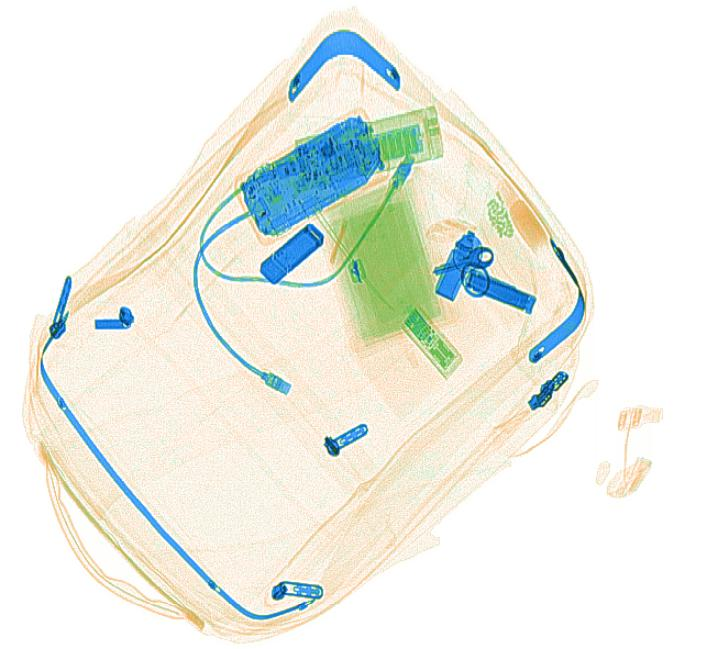USBFlashDisk: (398, 304, 458, 378)
